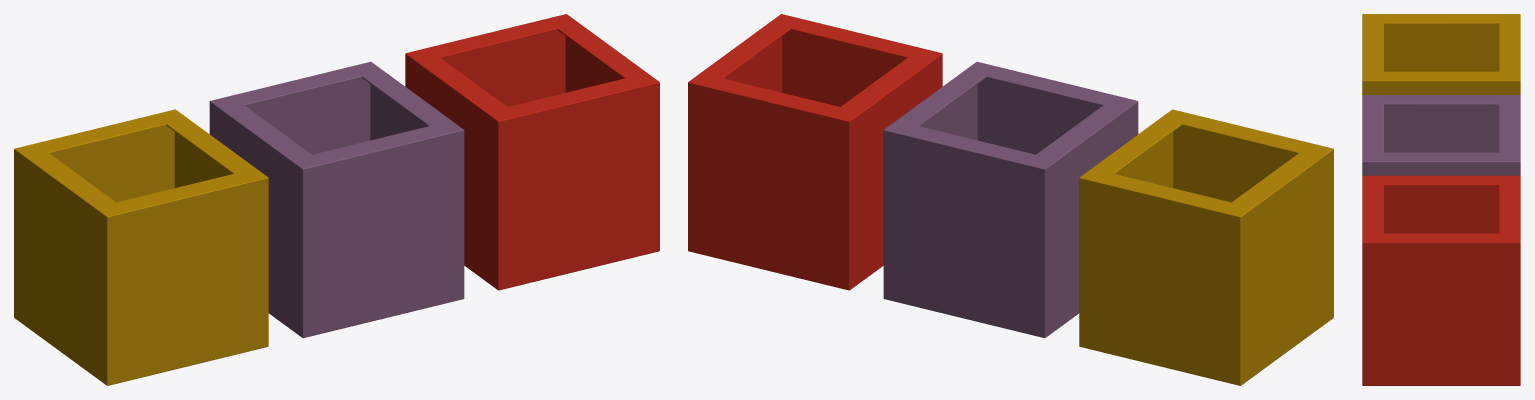
The model's file is boxes.dae.
The picture shows the model from 3 angles, left to right: view 1: azimuth 30°, elevation 25°; view 2: azimuth 150°, elevation 25°; view 3: azimuth 270°, elevation 25°; orthographic projection. The views are drawn at different scales.
Parts seen in each view (by area): view 1: yellow box, Purple box, red box; view 2: yellow box, Purple box, red box; view 3: red box, yellow box, Purple box.
Part boxes in pixels (bbox=[...]): yellow box: bbox=[14, 109, 268, 385]; Purple box: bbox=[209, 61, 464, 338]; red box: bbox=[405, 14, 659, 290]; yellow box: bbox=[1079, 109, 1333, 385]; Purple box: bbox=[883, 61, 1138, 338]; red box: bbox=[688, 14, 942, 290]; red box: bbox=[1362, 175, 1520, 385]; yellow box: bbox=[1362, 14, 1520, 94]; Purple box: bbox=[1362, 95, 1520, 175].
Bounding box in the file's own units: 0.707 × 0.207 × 0.207.
